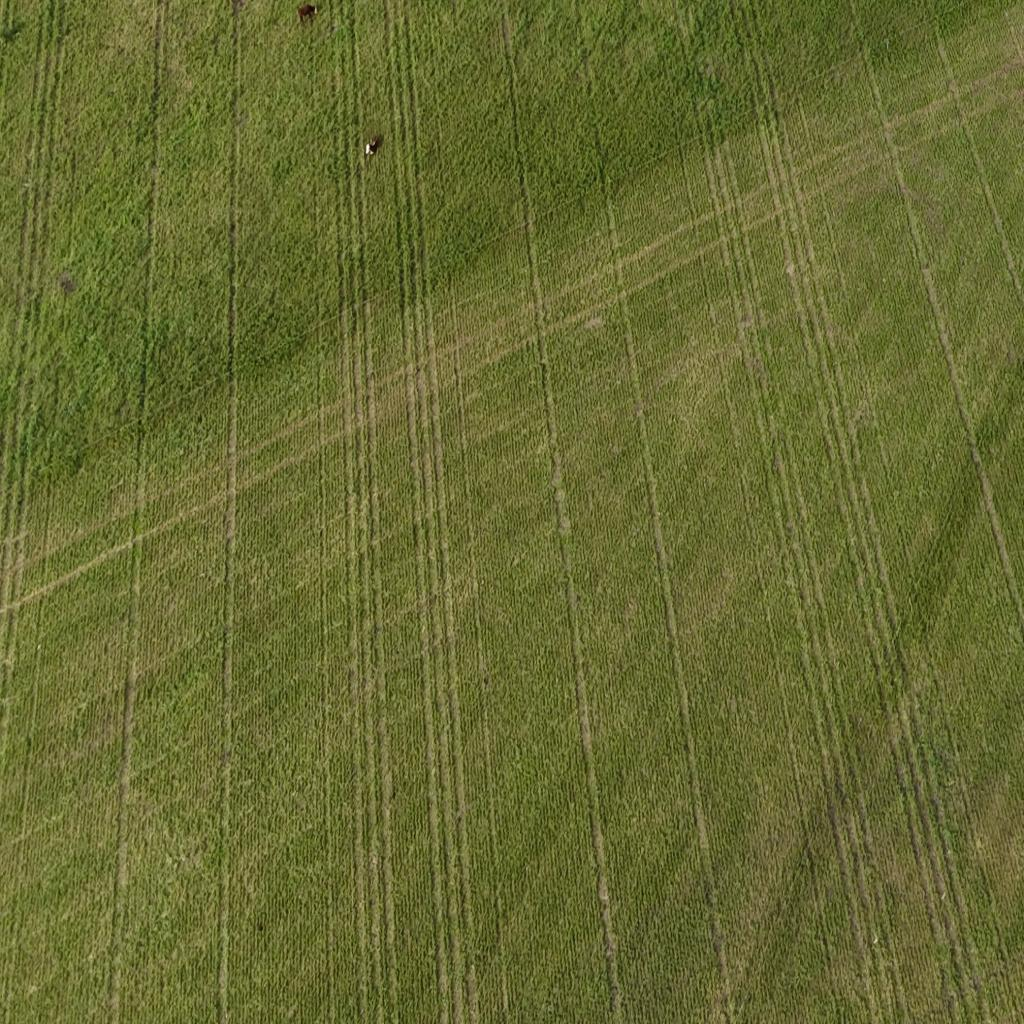cow: (362, 132, 384, 168), (294, 2, 322, 28)
